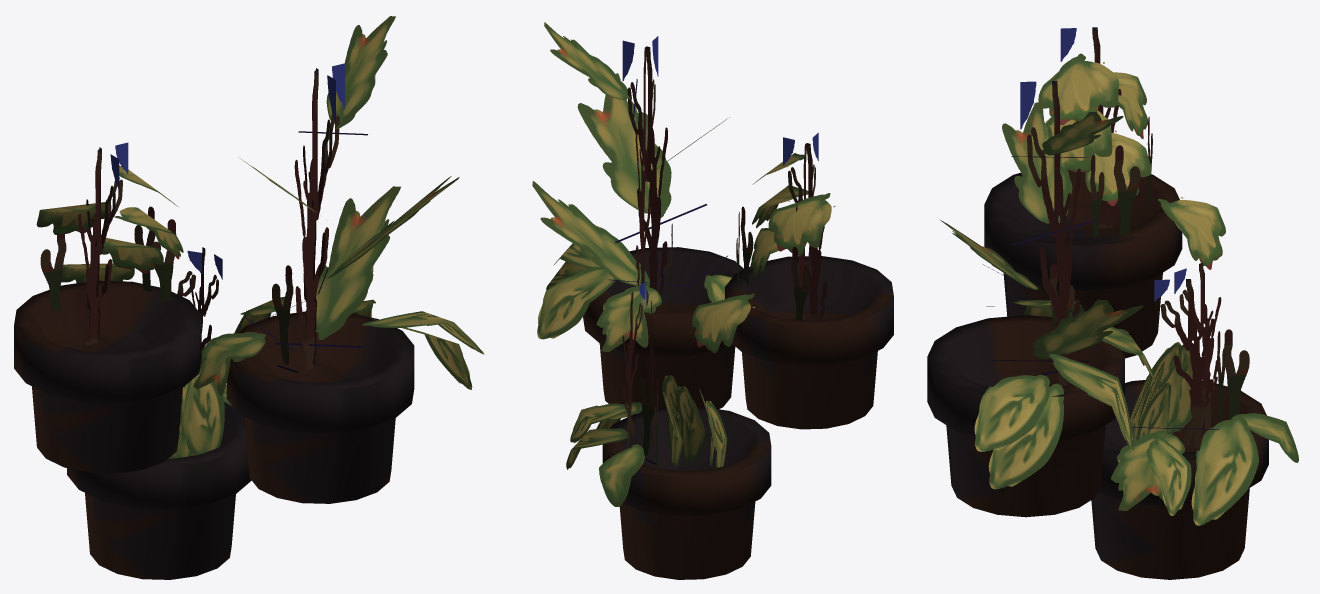
Rendered from Plantas.fbx.
3 views of the same model, side by side, from view 1: azimuth 30°, elevation 25°; view 2: azimuth 150°, elevation 25°; view 3: azimuth 270°, elevation 25° (orthographic). The views are drawn at different scales.
Parts seen in each view (by area): view 1: Plantas; view 2: Plantas; view 3: Plantas.
Part boxes in pixels (<box>): Plantas: <box>14,16,484,579</box>; Plantas: <box>532,22,893,579</box>; Plantas: <box>927,27,1298,579</box>.
Bounding box in the file's own units: 84.53 × 64.78 × 101.
